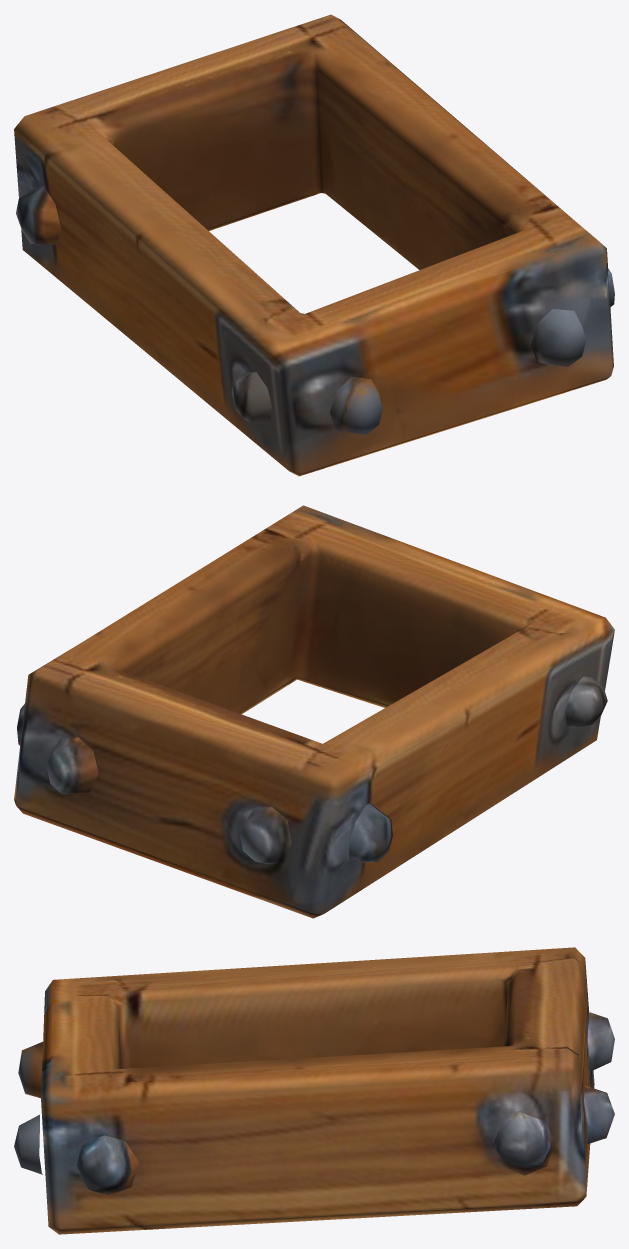
Rendered from hatch_coaming.glb.
3 views of the same model, one above another, from view 1: azimuth 30°, elevation 25°; view 2: azimuth 150°, elevation 25°; view 3: azimuth 270°, elevation 25° (orthographic). The views are drawn at different scales.
Visible parts, largest first — view 1: coaming; view 2: coaming; view 3: coaming.
Boxes of the visible parts, x1,y1,x2,y2 form: coaming: (14,14,614,476); coaming: (14,505,614,918); coaming: (14,947,614,1234).
Bounding box in the file's own units: 1.04 × 0.5285 × 1.5.
1 material, 1 textured.
